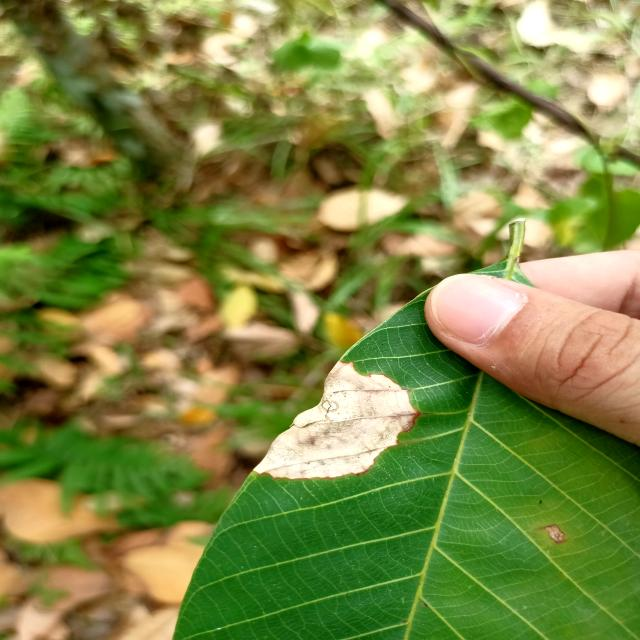Colletotrichum: (321, 400, 338, 411)
Leaf-Blight: (252, 360, 420, 479)
